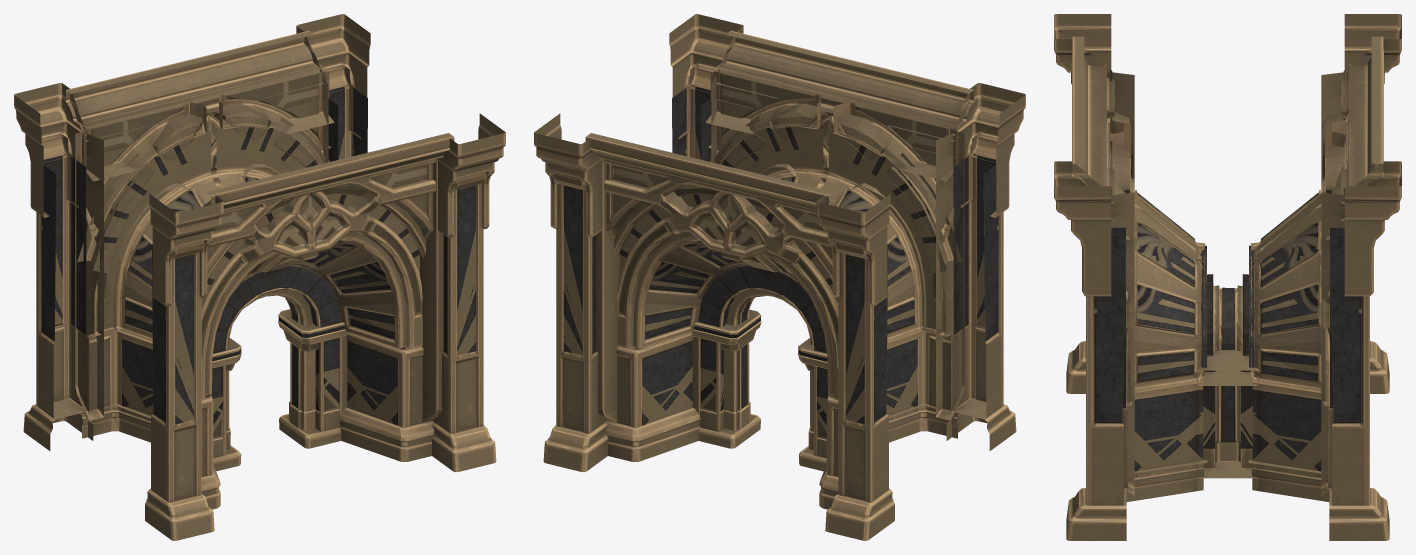
Rendered from ArchDoor_01_Lod3.fbx.
3 renders of one model, left to right at view 1: azimuth 30°, elevation 25°; view 2: azimuth 150°, elevation 25°; view 3: azimuth 270°, elevation 25°, orthographic. The views are drawn at different scales.
Parts seen in each view (by area): view 1: S_Sunforged_ArchDoor_01_Lod2.mo; view 2: S_Sunforged_ArchDoor_01_Lod2.mo; view 3: S_Sunforged_ArchDoor_01_Lod2.mo.
Boxes of the visible parts, <box> form: S_Sunforged_ArchDoor_01_Lod2.mo: <box>14,14,505,540</box>; S_Sunforged_ArchDoor_01_Lod2.mo: <box>534,14,1025,540</box>; S_Sunforged_ArchDoor_01_Lod2.mo: <box>1054,14,1401,540</box>.
Size of the model in its own units: 1122 by 1082 by 958.
1 material, 1 textured.
